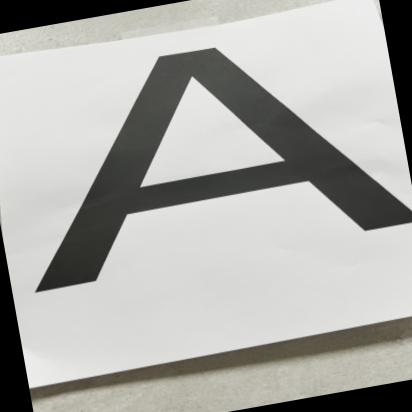seat: (0, 4, 412, 336)
